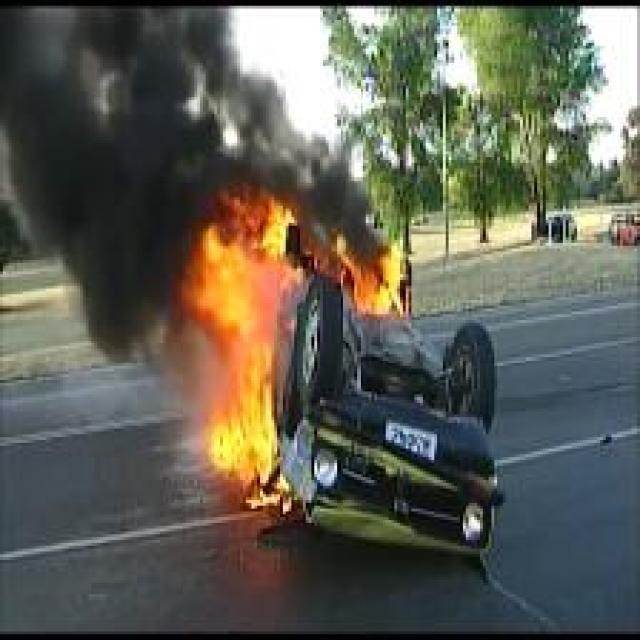Fire: (180, 195, 300, 516), (336, 235, 410, 318)
